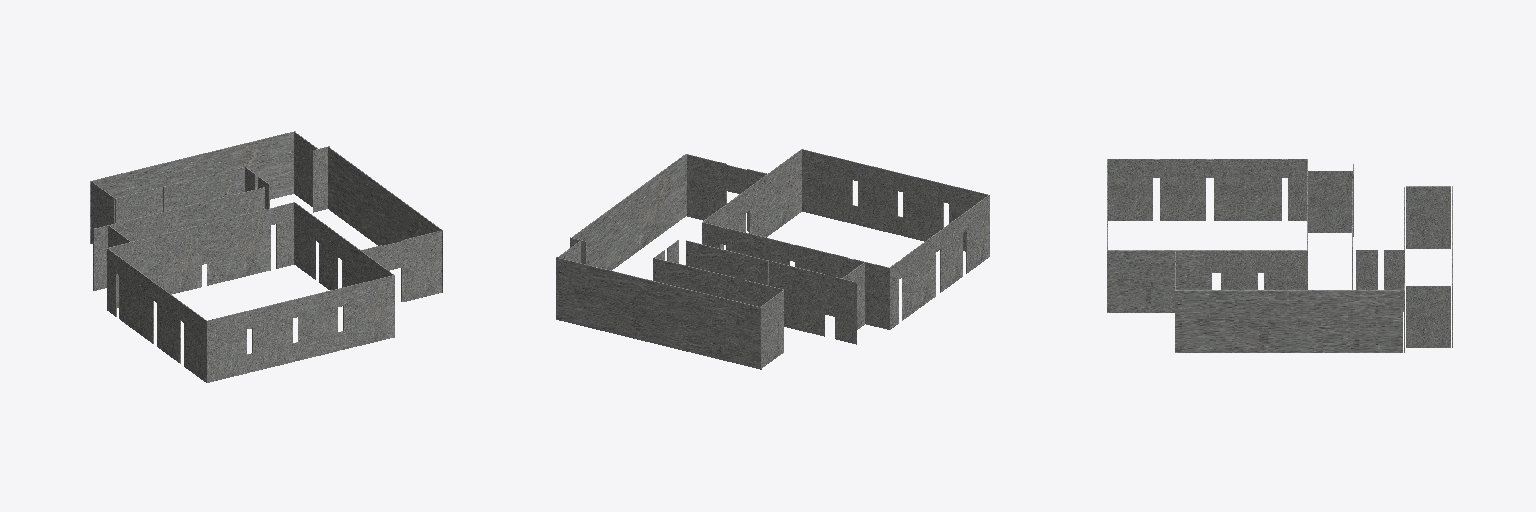
3 views of the same model, side by side, from view 1: azimuth 30°, elevation 25°; view 2: azimuth 150°, elevation 25°; view 3: azimuth 270°, elevation 25° (orthographic).
Parts seen in each view (by area): view 1: warehouse_Material; view 2: warehouse_Material; view 3: warehouse_Material.
Boxes of the visible parts, box(x1,y1,x2,y2) form: warehouse_Material: box(90, 131, 442, 382); warehouse_Material: box(556, 149, 989, 369); warehouse_Material: box(1107, 159, 1452, 352).
Bounding box in the file's own units: 93.22 × 20.38 × 103.
Materials: 1 (1 with a texture image).